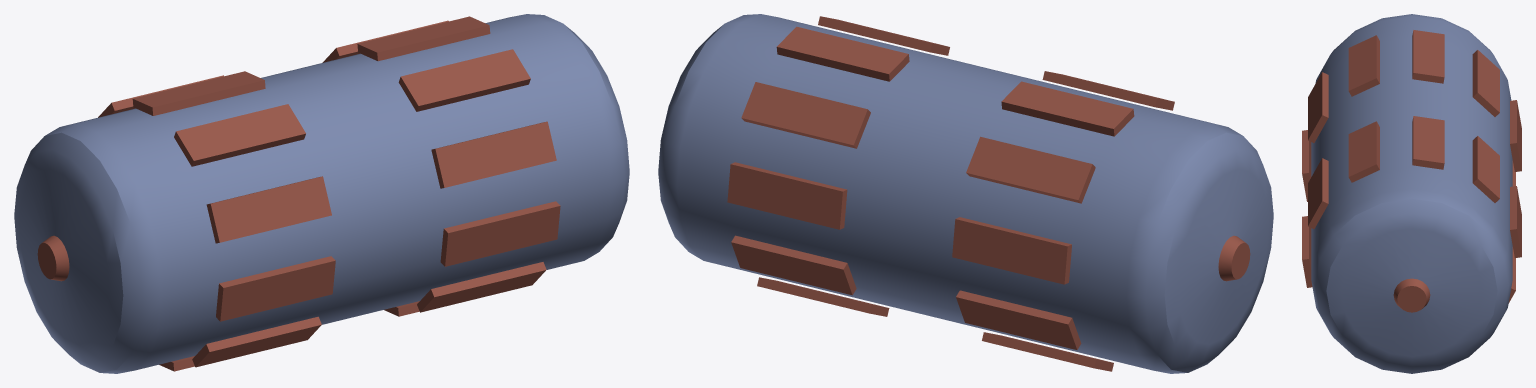
The model's file is Cylinder_Moving.fbx.
3 renders of one model, left to right at view 1: azimuth 30°, elevation 25°; view 2: azimuth 150°, elevation 25°; view 3: azimuth 270°, elevation 25°, orthographic. The views are drawn at different scales.
Visible parts, largest first — view 1: Cylinder_Moving; view 2: Cylinder_Moving; view 3: Cylinder_Moving.
Part boxes in pixels (left/top/right/bottom): Cylinder_Moving: left=14, top=14, right=629, bottom=373; Cylinder_Moving: left=658, top=14, right=1273, bottom=373; Cylinder_Moving: left=1302, top=14, right=1521, bottom=373.
Size of the model in its own units: 69.62 by 30.72 by 30.72.
